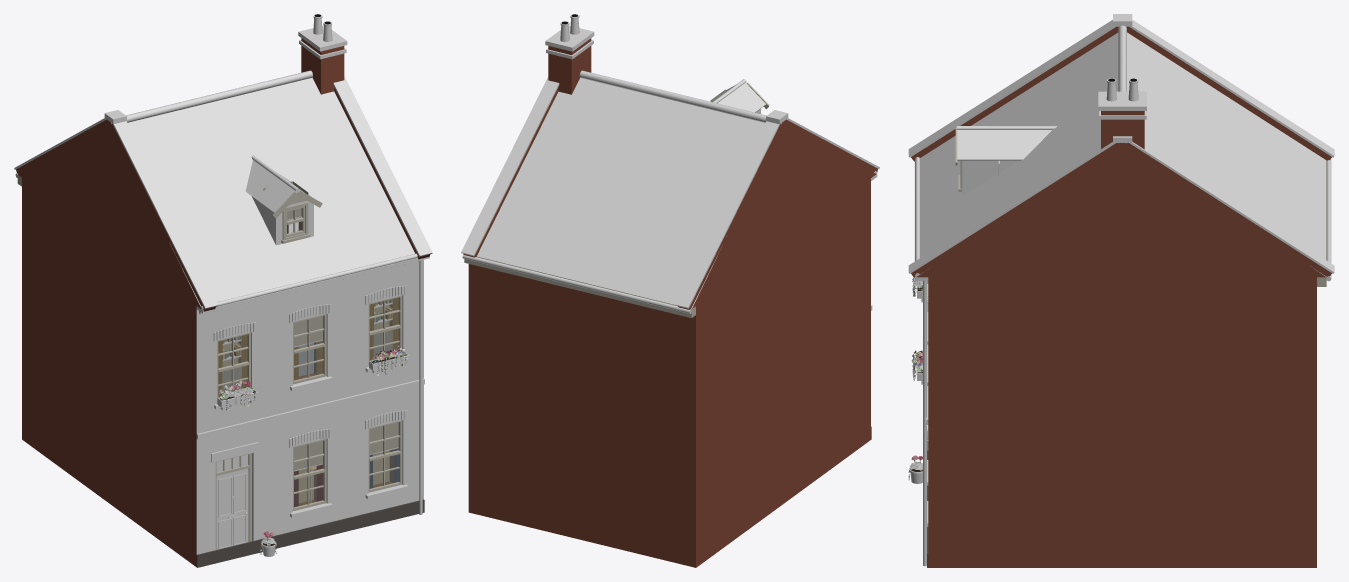
Rendered from terrace_60.glb.
3 renders of one model, left to right at view 1: azimuth 30°, elevation 25°; view 2: azimuth 150°, elevation 25°; view 3: azimuth 270°, elevation 25°, orthographic. The views are drawn at different scales.
Visible parts, largest first — view 1: terrace_60; view 2: terrace_60; view 3: terrace_60.
Boxes of the visible parts, x1,y1,x2,y2 form: terrace_60: [14, 14, 432, 567]; terrace_60: [461, 14, 879, 567]; terrace_60: [908, 14, 1334, 567].
Size of what is drawn, in the model's own units: 6.02 by 10.91 by 8.77.
